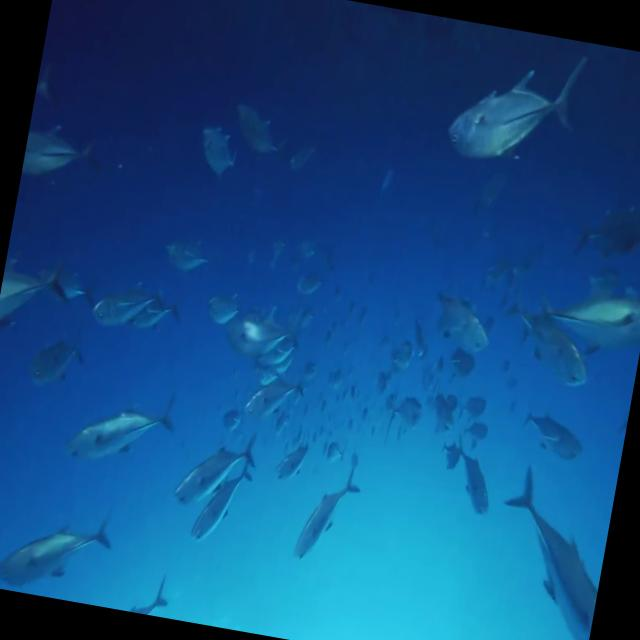fish: (478, 466, 616, 640), (438, 33, 589, 190), (59, 376, 190, 490), (0, 494, 126, 607), (515, 273, 640, 369), (169, 416, 265, 526), (18, 110, 122, 205), (290, 448, 368, 567), (0, 243, 77, 360), (188, 452, 254, 555), (432, 280, 512, 364), (86, 264, 168, 340), (216, 84, 296, 160), (516, 332, 594, 408), (245, 362, 318, 434), (444, 440, 500, 530), (186, 112, 248, 192), (520, 406, 596, 471), (26, 332, 91, 398), (227, 312, 297, 369), (132, 288, 188, 352), (154, 228, 216, 283), (200, 271, 246, 342), (43, 259, 101, 310), (272, 434, 320, 494), (381, 382, 433, 437), (127, 574, 180, 620), (213, 394, 244, 444), (385, 335, 417, 380)
